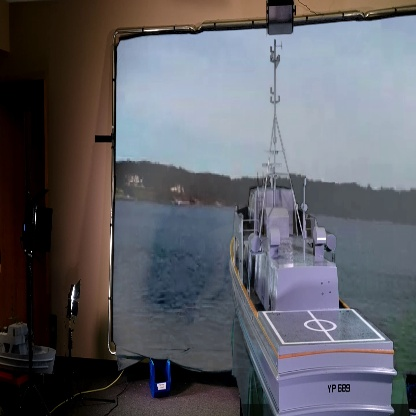YP689: (229, 39, 398, 416)
